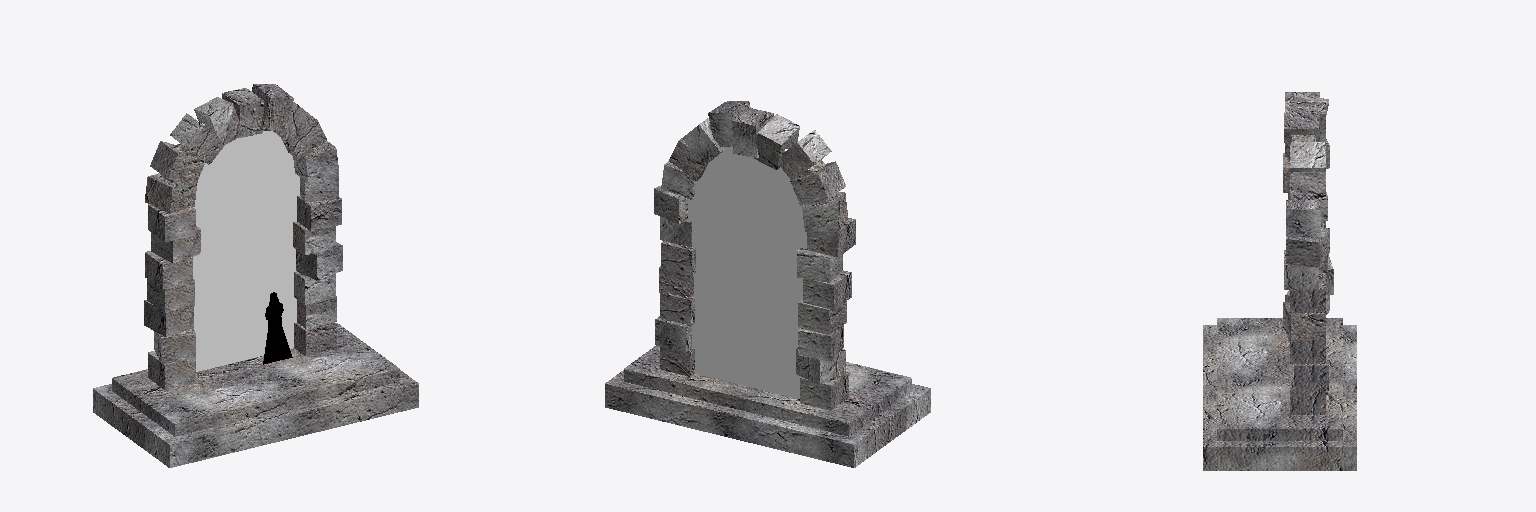
3 views of the same model, side by side, from view 1: azimuth 30°, elevation 25°; view 2: azimuth 150°, elevation 25°; view 3: azimuth 270°, elevation 25° (orthographic).
Visible parts, largest first — view 1: Mesh4 __________3_1 Model, Mesh7 __________4_1 Model, Mesh1 __________3_1 Model, Mesh2 __________3_1 Model, Mesh3 __________3_1 Model, Mesh6 __________3_1 Model, Mesh5 __________3_1 Model; view 2: Mesh7 __________4_1 Model, Mesh4 __________3_1 Model, Mesh1 __________3_1 Model, Mesh2 __________3_1 Model, Mesh3 __________3_1 Model, Mesh6 __________3_1 Model; view 3: Mesh4 __________3_1 Model, Mesh1 __________3_1 Model, Mesh3 __________3_1 Model, Mesh2 __________3_1 Model.
Boxes of the visible parts, x1=… form: Mesh4 __________3_1 Model: x1=93, y1=296, x2=418, y2=467; Mesh7 __________4_1 Model: x1=193, y1=123, x2=299, y2=371; Mesh1 __________3_1 Model: x1=145, y1=84, x2=338, y2=241; Mesh2 __________3_1 Model: x1=144, y1=226, x2=200, y2=336; Mesh3 __________3_1 Model: x1=293, y1=196, x2=342, y2=304; Mesh6 __________3_1 Model: x1=148, y1=329, x2=195, y2=390; Mesh5 __________3_1 Model: x1=263, y1=292, x2=292, y2=364; Mesh7 __________4_1 Model: x1=688, y1=146, x2=806, y2=398; Mesh4 __________3_1 Model: x1=605, y1=316, x2=930, y2=467; Mesh1 __________3_1 Model: x1=654, y1=101, x2=855, y2=257; Mesh2 __________3_1 Model: x1=797, y1=248, x2=851, y2=360; Mesh3 __________3_1 Model: x1=659, y1=217, x2=695, y2=325; Mesh6 __________3_1 Model: x1=796, y1=348, x2=848, y2=410; Mesh4 __________3_1 Model: x1=1203, y1=318, x2=1356, y2=470; Mesh1 __________3_1 Model: x1=1283, y1=92, x2=1329, y2=267; Mesh3 __________3_1 Model: x1=1283, y1=250, x2=1325, y2=363; Mesh2 __________3_1 Model: x1=1288, y1=192, x2=1333, y2=294.
Bounding box in the file's own units: 6719 × 7904 × 3587.
3 materials, 1 textured.